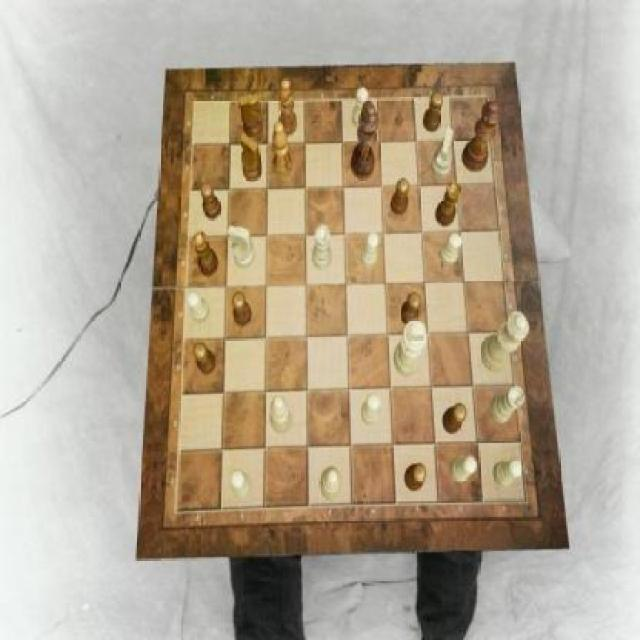bishop: (278, 78, 298, 137), (274, 121, 294, 178)
black-bishop: (351, 100, 380, 180)
black-king: (239, 92, 263, 138), (240, 132, 262, 182)
black-knight: (423, 92, 443, 132), (194, 342, 217, 376), (443, 403, 468, 434), (202, 182, 222, 219), (391, 178, 410, 214), (232, 291, 252, 325), (402, 294, 422, 328), (405, 465, 427, 492)
black-pawn: (463, 99, 503, 172)
black-queen: (437, 182, 461, 228), (194, 231, 218, 276)
black-rook: (269, 395, 292, 433), (318, 466, 341, 500)
white-bishop: (394, 319, 427, 376)
white-king: (228, 224, 255, 268), (431, 128, 454, 178)
white-knight: (494, 458, 523, 488), (440, 234, 463, 268), (352, 88, 370, 129), (450, 456, 478, 482), (188, 291, 210, 323), (362, 394, 382, 426), (362, 232, 379, 268), (231, 469, 251, 498)
white-pawn: (480, 312, 529, 372)
white-queen: (490, 386, 524, 424), (312, 225, 332, 270)
